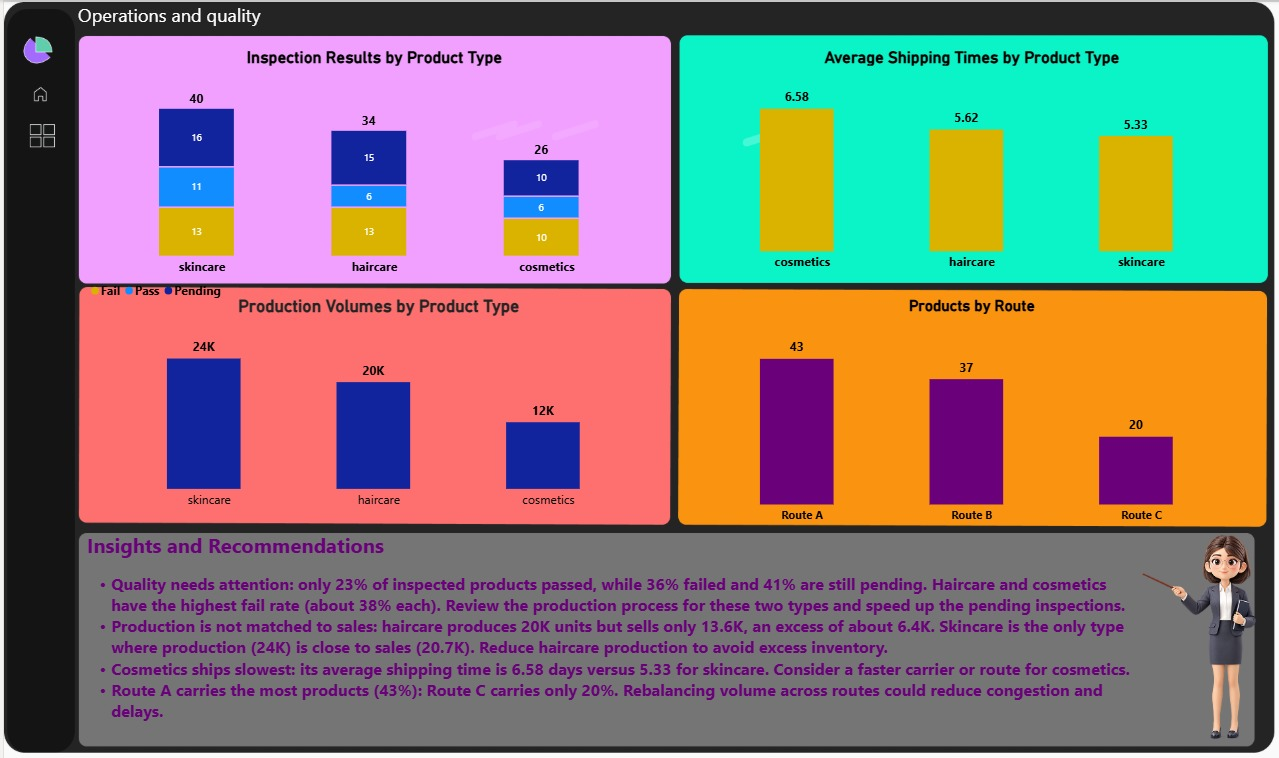

Layout of this report page (visuals, bound fields, positions):
{"tool":"powerbi","page":{"name":"Operations and quality","canvas":[1920,1080],"ordinal":1},"visuals":[{"type":"textbox","box":[98.3,0,379.5,46.9],"z":0},{"type":"columnChart","title":"Inspection Results by Product Type","fields":{"Category":["supply_chain_data.Product type"],"Series":["supply_chain_data.Inspection results"],"Y":["CountNonNull(supply_chain_data.SKU)"]},"box":[98.3,46.9,784.6,367.4],"z":1000},{"type":"clusteredColumnChart","title":"Average Shipping Times by Product Type","fields":{"Category":["supply_chain_data.Product type"],"Y":["Avg(supply_chain_data.Shipping times)"]},"box":[895,46.9,772.5,329.6],"z":2000},{"type":"clusteredColumnChart","title":"Production Volumes by Product Type","fields":{"Category":["supply_chain_data.Product type"],"Y":["Sum(supply_chain_data.Production volumes)"]},"box":[110.4,376.4,772.5,314.5],"z":3000},{"type":"clusteredColumnChart","title":"Products by Route","fields":{"Category":["supply_chain_data.Routes"],"Y":["CountNonNull(supply_chain_data.SKU)"]},"box":[895,376.4,772.5,334.1],"z":4000},{"type":"textbox","box":[110.4,700,1398.4,282.7],"z":5000}]}

Visuals, with their boxes on the page's 1920x1080 design canvas (x1, y1, x2, y2). These are canvas units, not pixel positions in the 1279x758 screenshot, which may show the page scaled, cropped or inside an application window:
textbox: <box>98,0,478,47</box>
"Inspection Results by Product Type" columnChart: <box>98,47,883,414</box>
"Average Shipping Times by Product Type" clusteredColumnChart: <box>895,47,1668,376</box>
"Production Volumes by Product Type" clusteredColumnChart: <box>110,376,883,691</box>
"Products by Route" clusteredColumnChart: <box>895,376,1668,710</box>
textbox: <box>110,700,1509,983</box>
